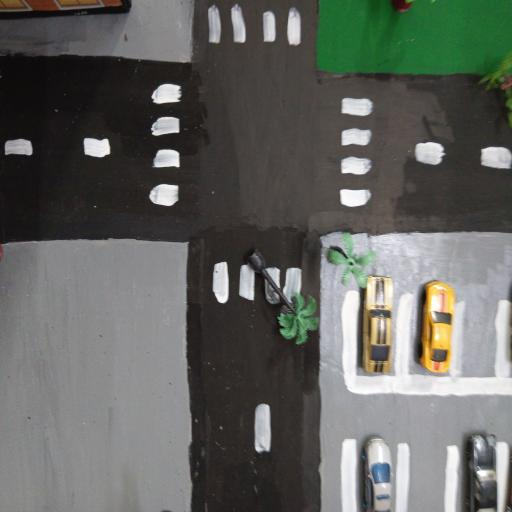fallen trees: (248, 247, 321, 349), (475, 52, 512, 125)
